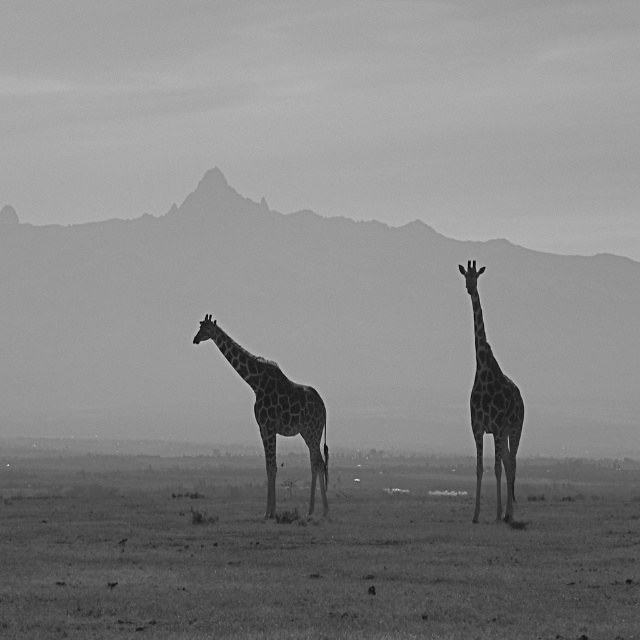Giraffe: (195, 310, 341, 536), (458, 259, 526, 525)
